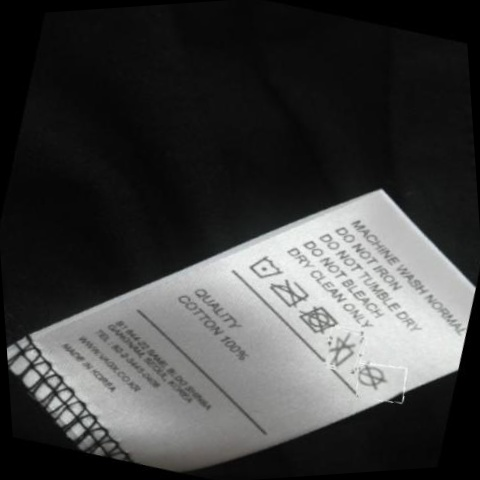30C: (251, 253, 282, 280)
DN_bleach: (329, 334, 364, 368)
DN_dry_clean: (356, 363, 388, 392)
DN_iron: (274, 278, 312, 310)
DN_tumble_dry: (301, 302, 340, 335)
